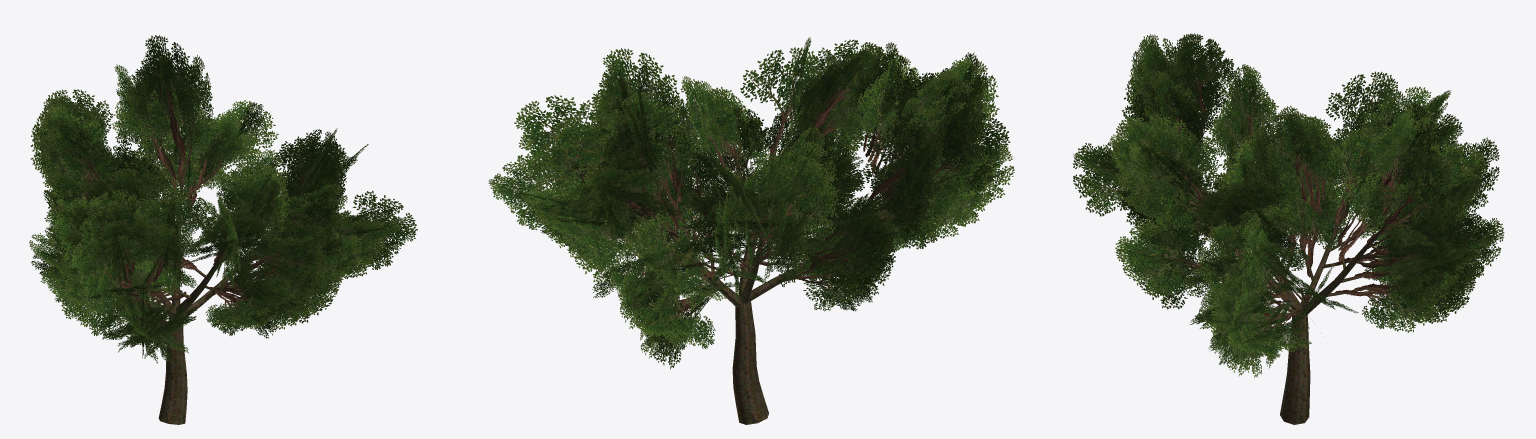
The model's file is swamp_a_lod0.glb.
3 renders of one model, left to right at view 1: azimuth 30°, elevation 25°; view 2: azimuth 150°, elevation 25°; view 3: azimuth 270°, elevation 25°, orthographic. The views are drawn at different scales.
Parts seen in each view (by area): view 1: swamp_a_lod0; view 2: swamp_a_lod0; view 3: swamp_a_lod0.
Boxes of the visible parts, box(x1,y1,x2,y2) form: swamp_a_lod0: box(29, 35, 417, 424); swamp_a_lod0: box(488, 37, 1014, 424); swamp_a_lod0: box(1073, 33, 1504, 424).
Bounding box in the file's own units: 76.22 × 66.37 × 74.97.
2 materials, 2 textured.
